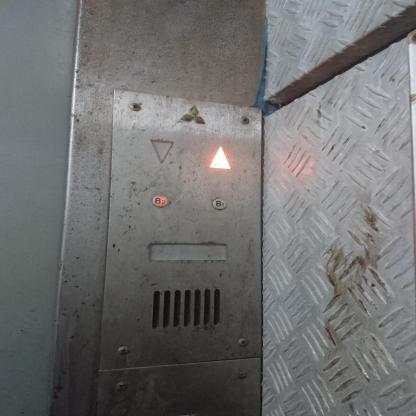B1: (211, 197, 228, 210)
B2: (152, 194, 169, 208)
